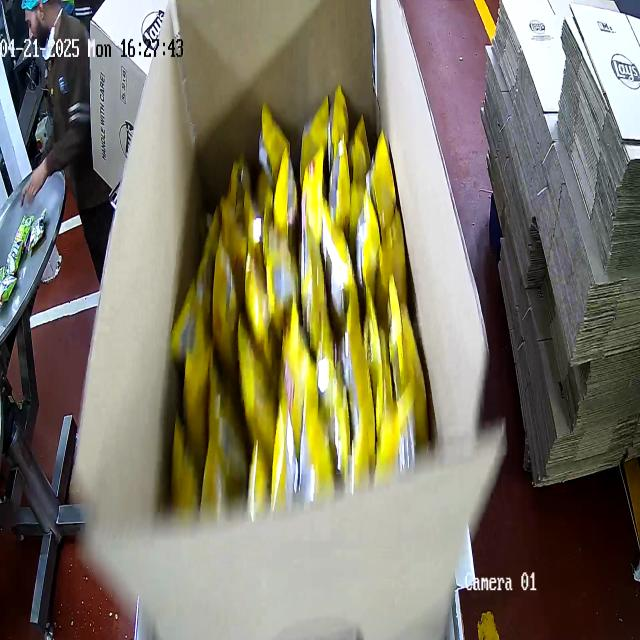SALTED: (174, 112, 414, 483)
